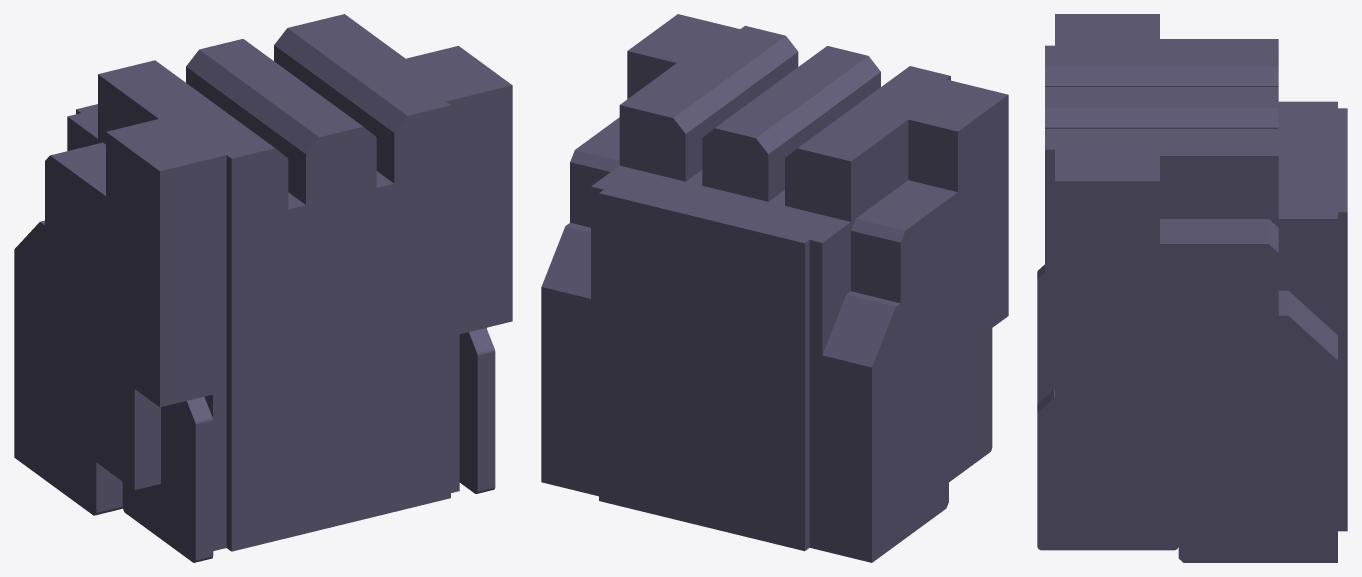
Rendered from Main_SH03W_KORP.dae.
3 renders of one model, left to right at view 1: azimuth 30°, elevation 25°; view 2: azimuth 150°, elevation 25°; view 3: azimuth 270°, elevation 25°, orthographic. The views are drawn at different scales.
Parts seen in each view (by area): view 1: Main_SH03W_KORP; view 2: Main_SH03W_KORP; view 3: Main_SH03W_KORP.
Part boxes in pixels (left/top/right/bottom): Main_SH03W_KORP: left=14, top=14, right=512, bottom=562; Main_SH03W_KORP: left=541, top=14, right=1008, bottom=562; Main_SH03W_KORP: left=1037, top=14, right=1347, bottom=562.
Size of the model in its own units: 0.004 by 0.00314 by 0.00426.
